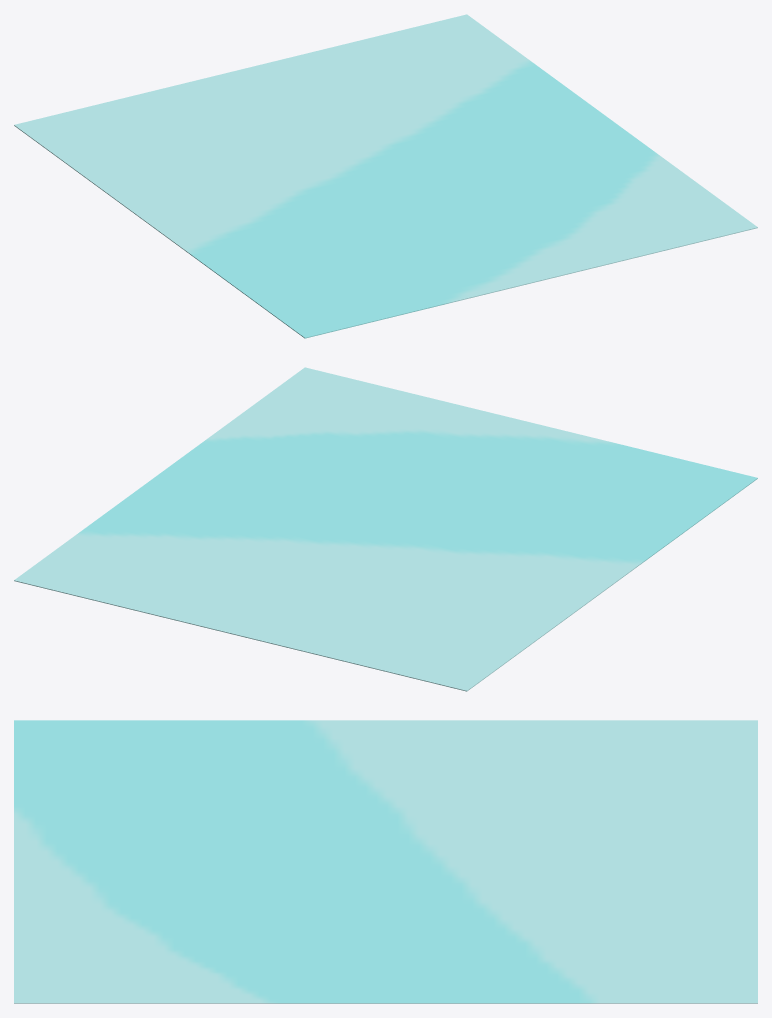
The model's file is Level 145 roll cast of leg.fbx.
The picture shows the model from 3 angles, top to bottom: view 1: azimuth 30°, elevation 25°; view 2: azimuth 150°, elevation 25°; view 3: azimuth 270°, elevation 25°; orthographic projection. The views are drawn at different scales.
Parts seen in each view (by area): view 1: Blend; view 2: Blend; view 3: Blend.
Boxes of the visible parts, bbox=[...] form: Blend: bbox=[14, 14, 757, 338]; Blend: bbox=[14, 367, 757, 691]; Blend: bbox=[14, 720, 757, 1003].
Size of what is drawn, in the model's own units: 615 by 1 by 684.
